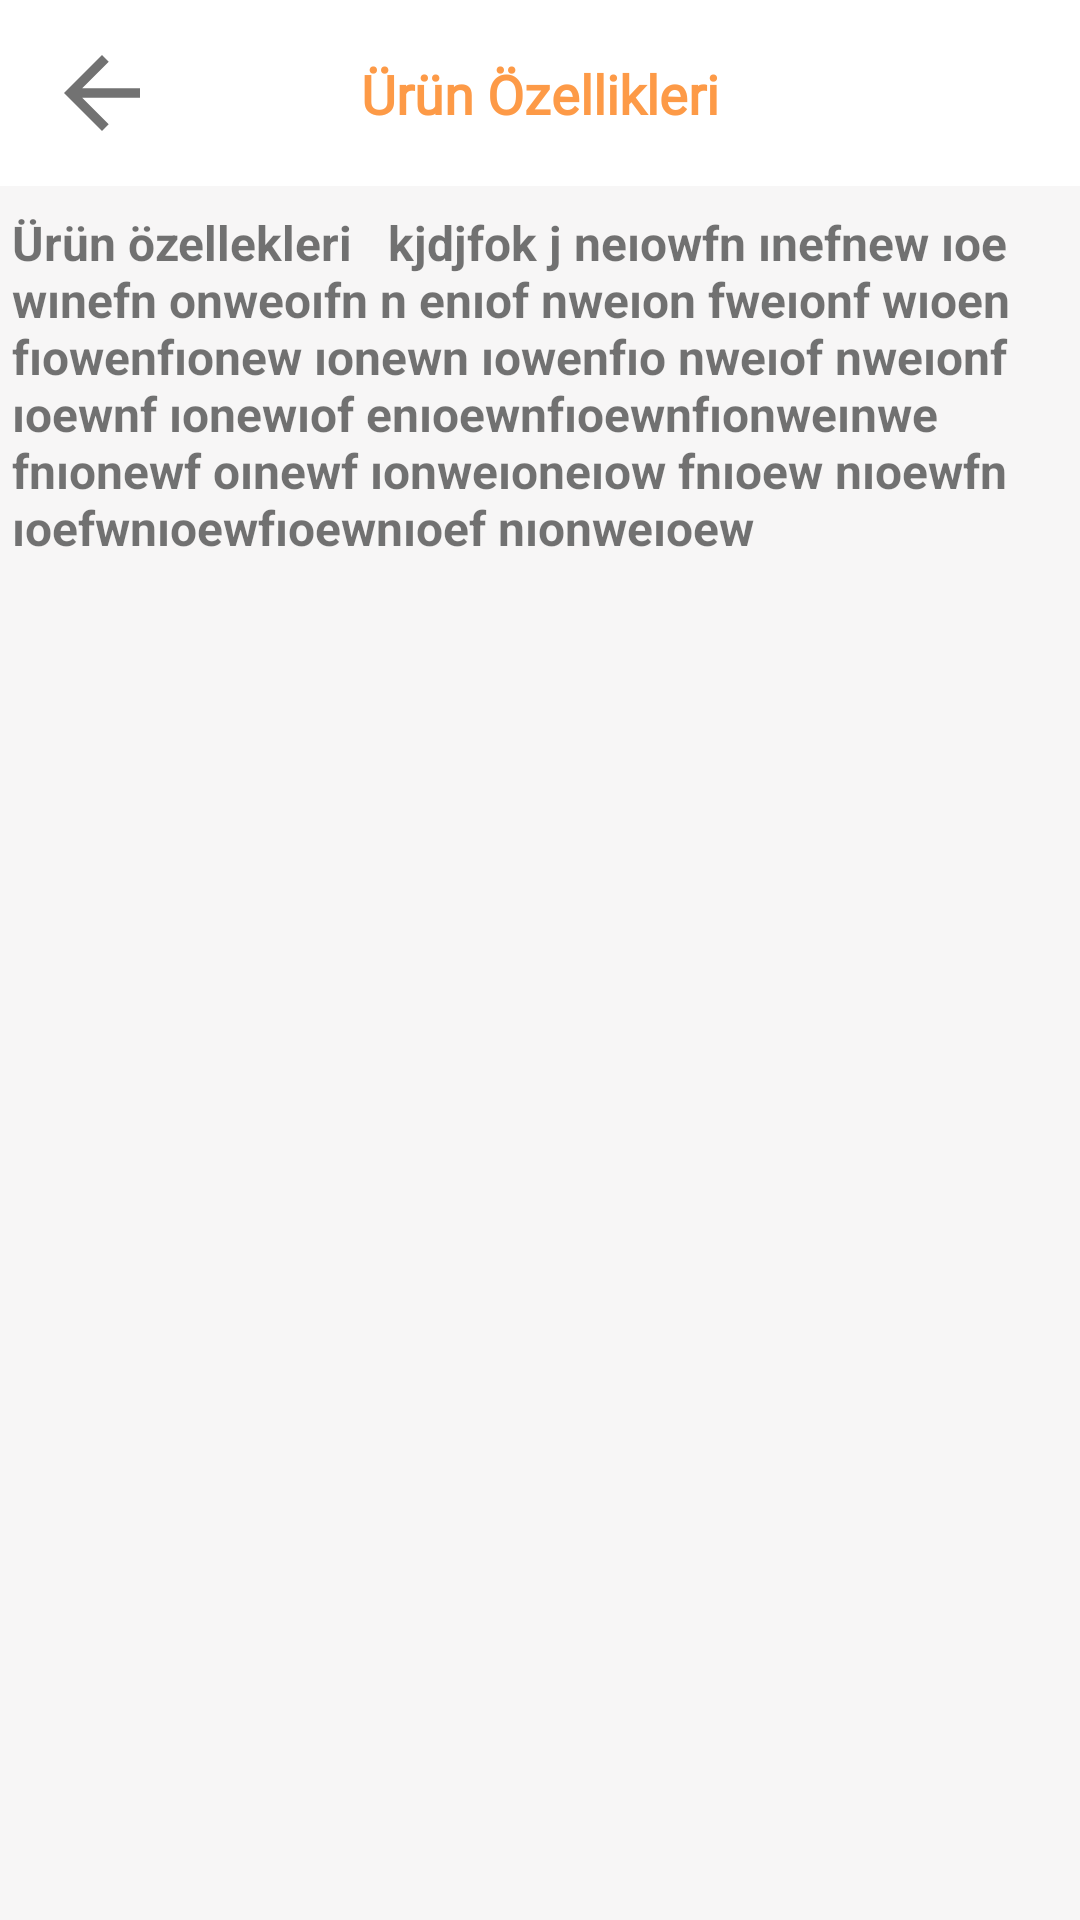

Locate icon controls on the screen. Image size 1080*1920, boxes as (x1, y1, x2, y2).
arrow back: (64, 55, 140, 131)
